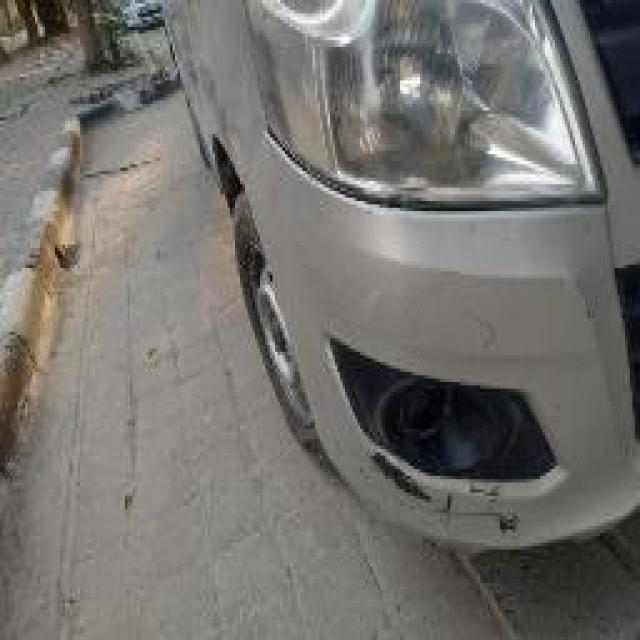Bumper: (300, 268, 552, 560)
